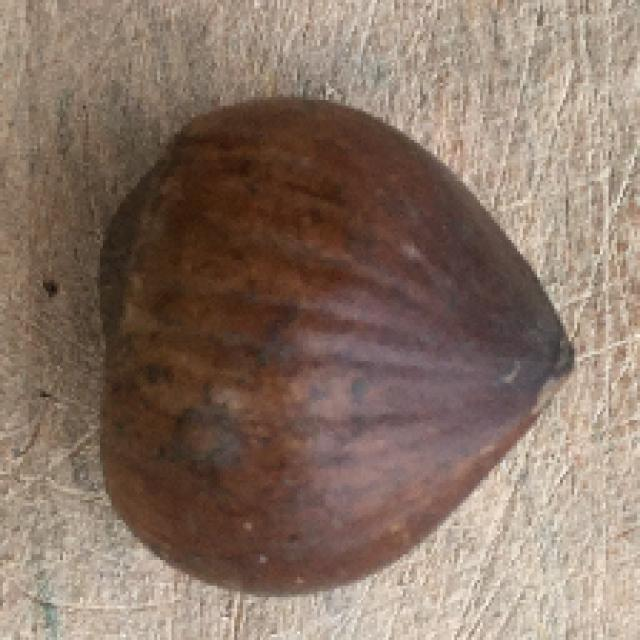damagedHazelnut: (84, 72, 572, 615)
